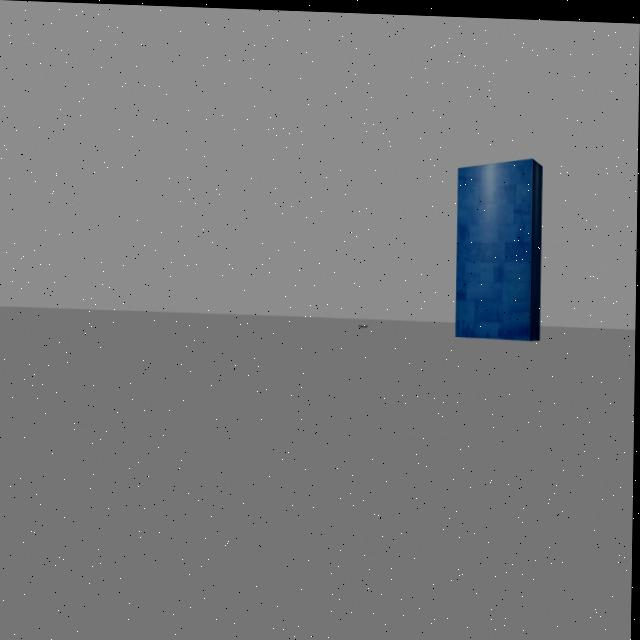bowl: (354, 313, 378, 336)
shelf: (444, 139, 550, 366)
